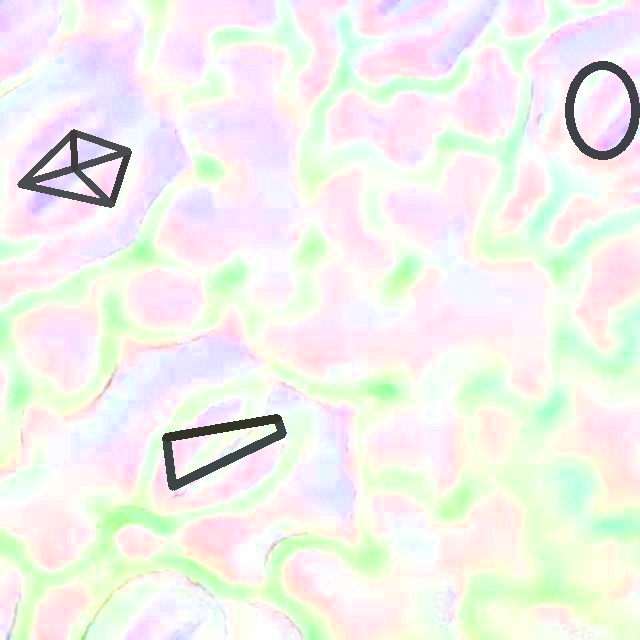open: (162, 415, 286, 489), (17, 129, 131, 207), (565, 59, 639, 160)
